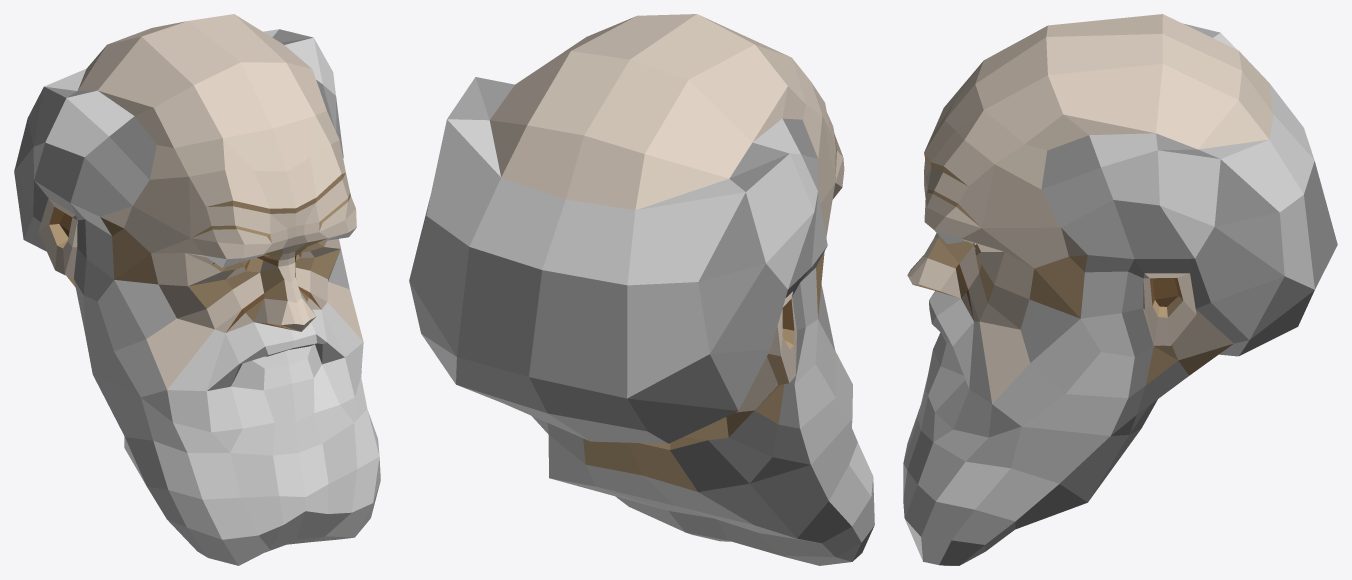
File: darwin-head-bust.glb
3 renders of one model, left to right at view 1: azimuth 30°, elevation 25°; view 2: azimuth 150°, elevation 25°; view 3: azimuth 270°, elevation 25°, orthographic. The views are drawn at different scales.
Visible parts, largest first — view 1: wizard_head; view 2: wizard_head; view 3: wizard_head.
Part boxes in pixels (x1,y1,x2,y2): wizard_head: [14, 14, 380, 565]; wizard_head: [409, 14, 874, 565]; wizard_head: [903, 14, 1337, 565].
Size of the model in its own units: 0.1865 by 0.2838 by 0.2214.
1 material, 1 textured.
